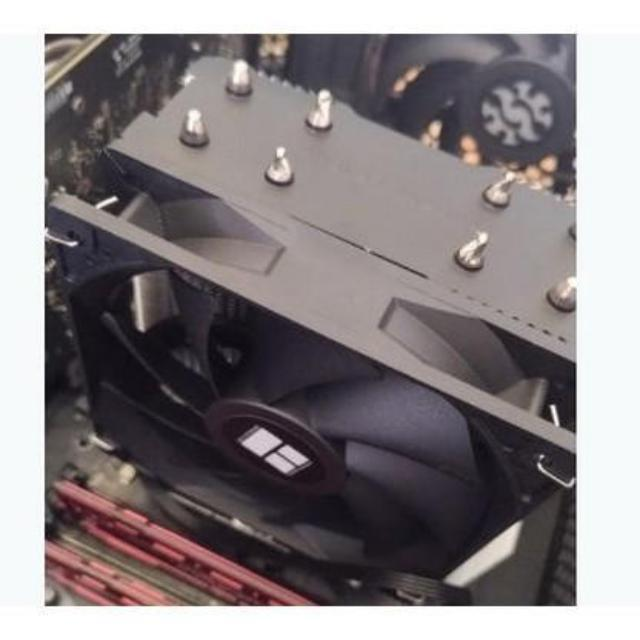CPU_Fan: (50, 51, 588, 588)
